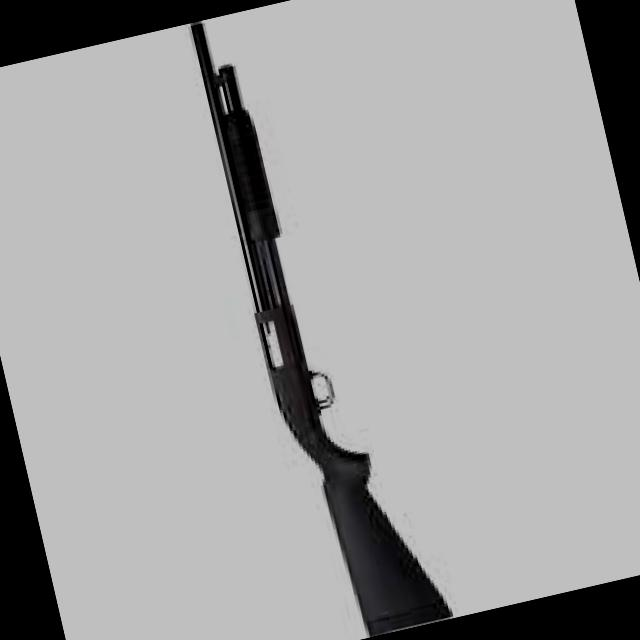long weapon: (157, 0, 486, 636)
